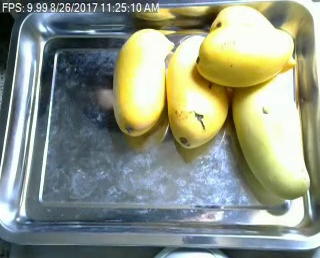Mango: (228, 76, 310, 199), (166, 33, 229, 146), (112, 29, 174, 136), (195, 28, 293, 87), (209, 6, 296, 72)
